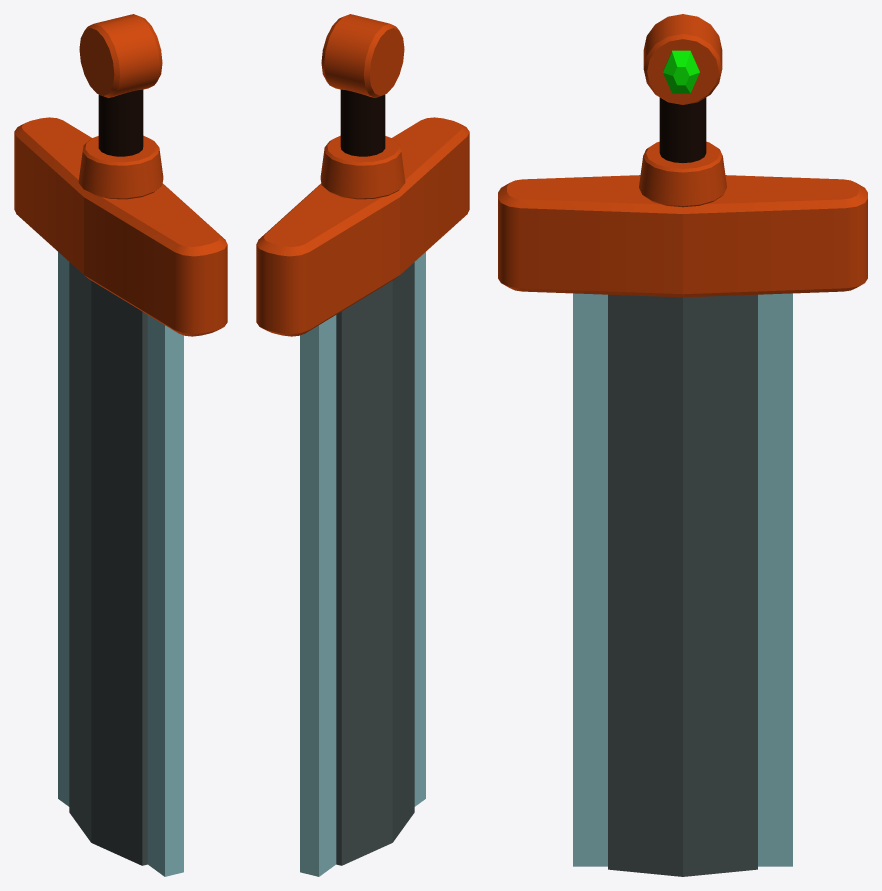
Rendered from RPG_Sword_l2.fbx.
3 renders of one model, left to right at view 1: azimuth 30°, elevation 25°; view 2: azimuth 150°, elevation 25°; view 3: azimuth 270°, elevation 25°, orthographic. The views are drawn at different scales.
Parts seen in each view (by area): view 1: Sword_l; view 2: Sword_l; view 3: Sword_l.
Part boxes in pixels (x1,y1,x2,y2): Sword_l: (14, 14, 227, 876); Sword_l: (256, 14, 469, 876); Sword_l: (498, 14, 867, 876).
Size of the model in its own units: 9.84 by 41.23 by 103.
